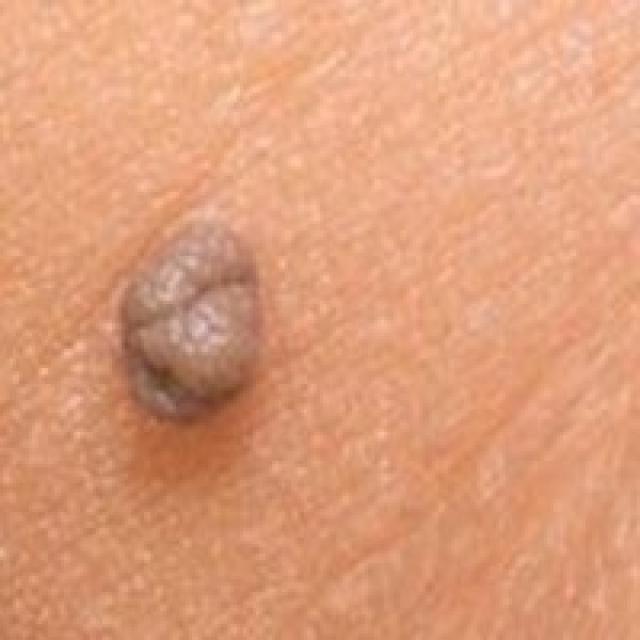wart: (112, 214, 266, 420)
